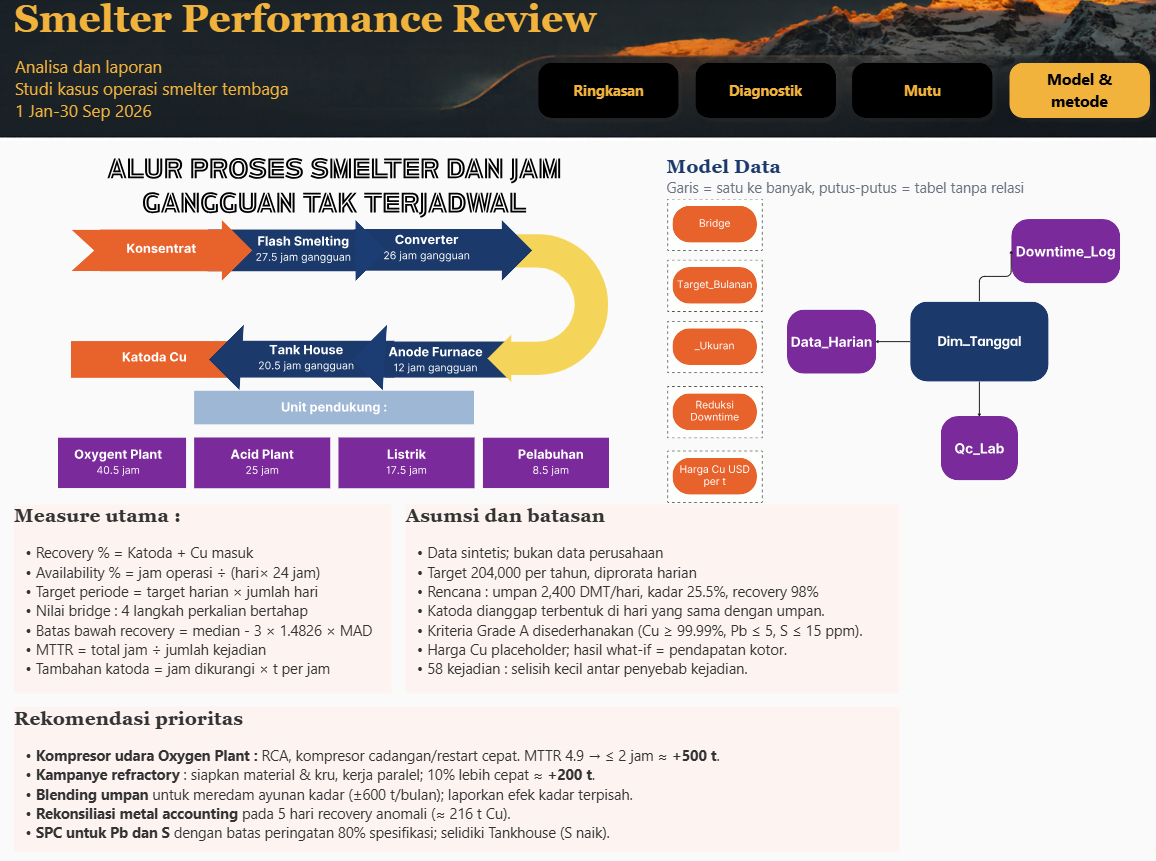

Layout of this report page (visuals, bound fields, positions):
{"tool":"powerbi","page":{"name":"Model & metode","canvas":[1280,960],"ordinal":3},"visuals":[{"type":"image","title":"Image header","box":[0,0,1280,160],"z":0},{"type":"textbox","title":"text box judul","box":[16,0,672,64],"z":0,"group":"g2"},{"type":"textbox","title":"Text box subjudul","box":[16,64,320,96],"z":1000,"group":"g2"},{"type":"textbox","title":"measure utama","box":[16,560,416,208],"z":2000},{"type":"pageNavigator","title":"page halaman","box":[585.3,64.5,692.7,79.4],"z":4000,"group":"g1"},{"type":"group","id":"g1","title":"Group 2","box":[16,0,1262,160],"z":11000},{"type":"image","box":[64,176,608,368],"z":12000},{"type":"image","box":[688,224,576,336],"z":13000},{"type":"group","id":"g2","title":"judul sub judul","box":[16,0,672,160],"z":14000,"group":"g1"},{"type":"textbox","box":[736,176,544,48],"z":14000},{"type":"textbox","title":"asumsi dan batasan","box":[448,560,544,208],"z":14001},{"type":"textbox","title":"asumsi dan batasan","box":[16,784,976,160],"z":14002}]}

Visuals, with their boxes in screenshot pixels (x1, y1, x2, y2), scaled from the page's 1280x960 canvas onto the 1156x861 screenshot:
"Image header" image: 0/0/1155/144
"text box judul" textbox: 14/0/621/57
"Text box subjudul" textbox: 14/57/303/144
"measure utama" textbox: 14/502/390/689
"page halaman" pageNavigator: 529/58/1154/129
"Group 2" group: 14/0/1154/144
image: 58/158/607/488
image: 621/201/1142/502
"judul sub judul" group: 14/0/621/144
textbox: 665/158/1155/201
"asumsi dan batasan" textbox: 405/502/896/689
"asumsi dan batasan" textbox: 14/703/896/847
